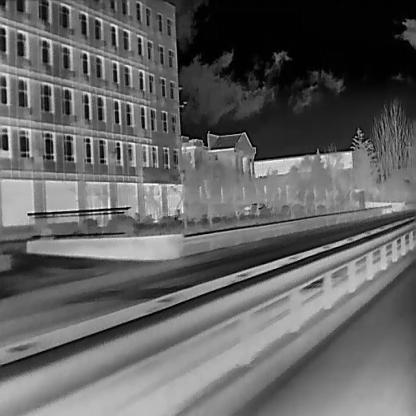car: (241, 201, 267, 214)
